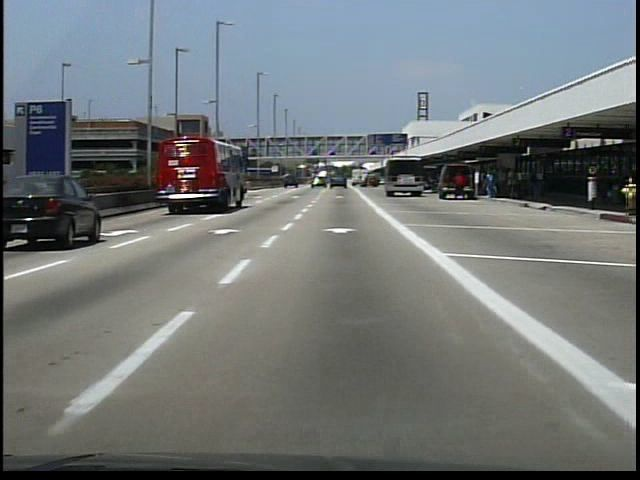person: (453, 167, 469, 204)
